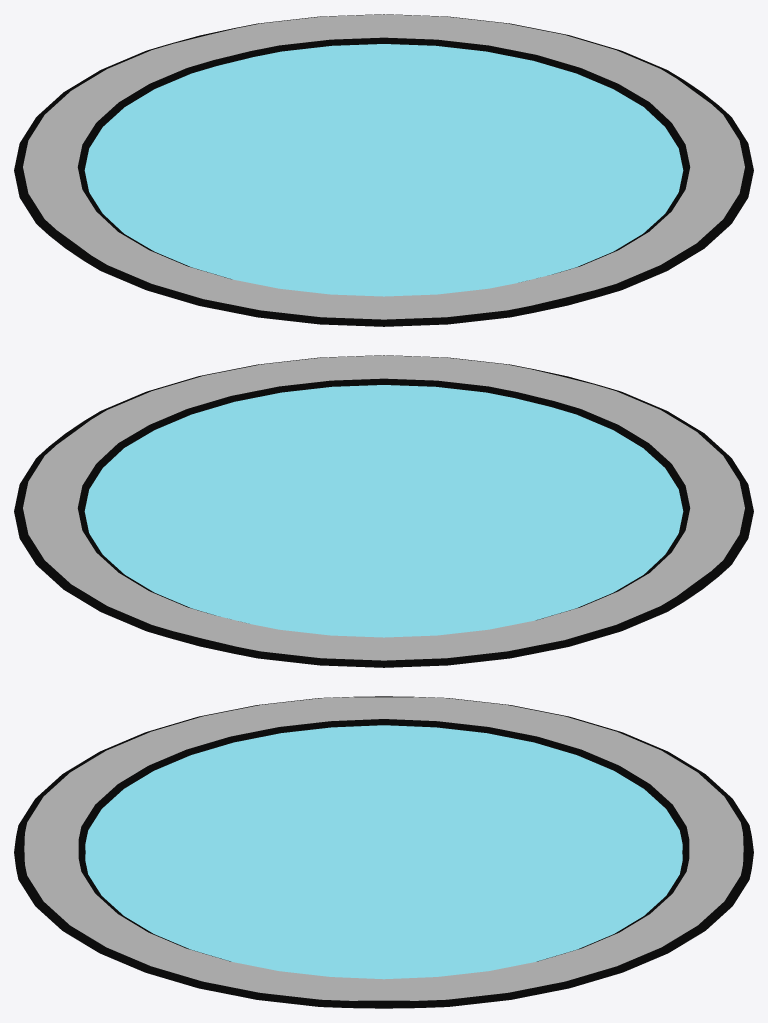
Rendered from HighlightSmallCircle.fbx.
The picture shows the model from 3 angles, top to bottom: view 1: azimuth 30°, elevation 25°; view 2: azimuth 150°, elevation 25°; view 3: azimuth 270°, elevation 25°; orthographic projection.
Visible parts, largest first — view 1: HighlightCircleIn, HighlightCircle, HighlightCircleOutline; view 2: HighlightCircleIn, HighlightCircle, HighlightCircleOutline; view 3: HighlightCircleIn, HighlightCircle, HighlightCircleOutline.
Boxes of the visible parts, x1,y1,x2,y2 form: HighlightCircleIn: (84,44,683,296); HighlightCircle: (23,14,744,319); HighlightCircleOutline: (14,14,753,326); HighlightCircleIn: (84,385,683,637); HighlightCircle: (23,355,744,660); HighlightCircleOutline: (14,355,753,667); HighlightCircleIn: (85,725,682,979); HighlightCircle: (24,697,743,1000); HighlightCircleOutline: (14,696,753,1008).
Size of the model in its own units: 168 by 1.46 by 168.
